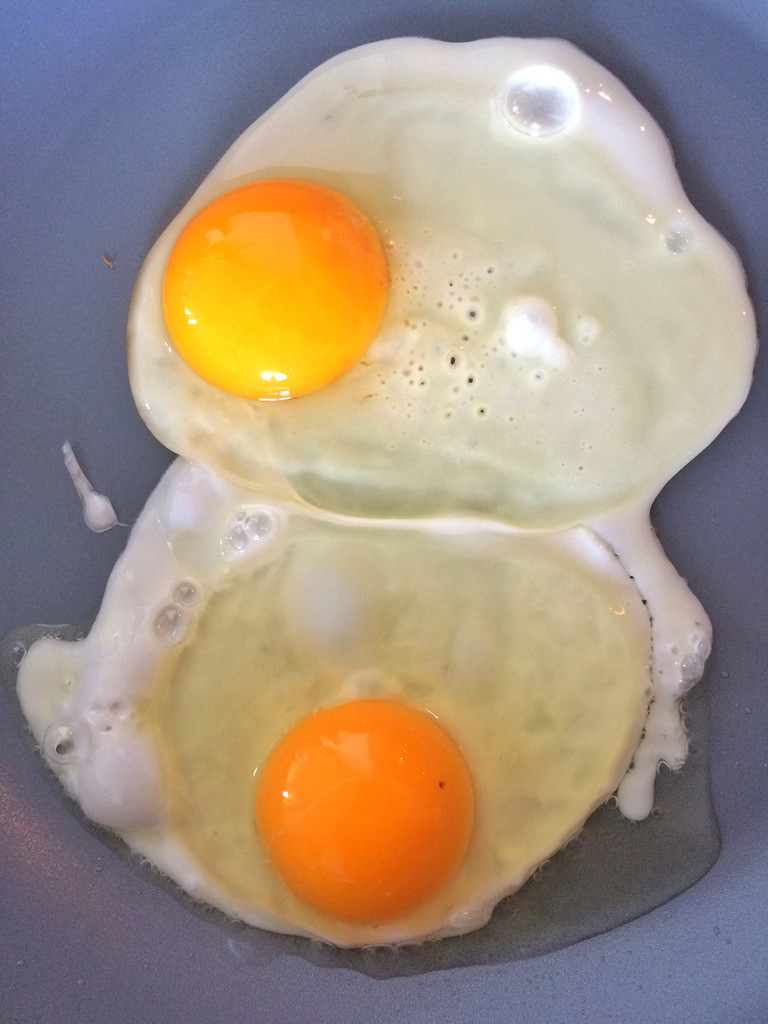fried egg: (122, 33, 700, 514), (113, 462, 660, 910)
